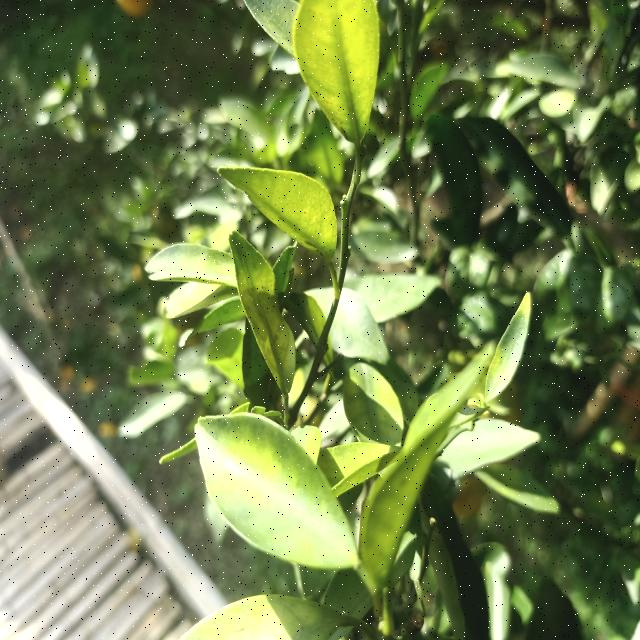blackspot: (300, 8, 374, 146), (237, 166, 336, 264), (229, 243, 296, 378)
